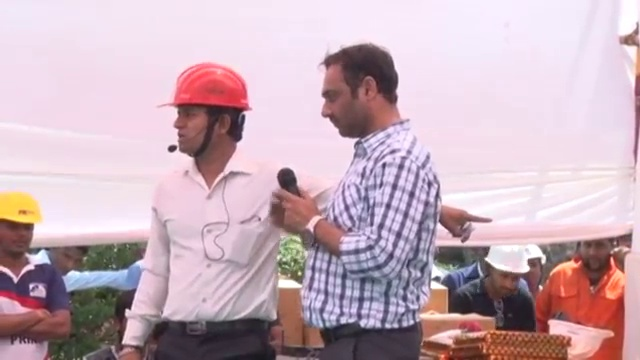helmet: (151, 57, 259, 116), (543, 317, 613, 358), (481, 247, 530, 276), (0, 201, 45, 228), (525, 245, 549, 265)
helmet_off: (315, 43, 406, 137), (108, 291, 163, 359), (43, 244, 87, 281), (578, 237, 617, 276)
helmet_on: (152, 55, 259, 162), (0, 200, 45, 262), (479, 248, 527, 296), (526, 246, 548, 296)
person: (122, 55, 313, 360), (281, 39, 445, 360), (0, 195, 70, 359), (545, 237, 625, 359), (435, 246, 547, 331)
